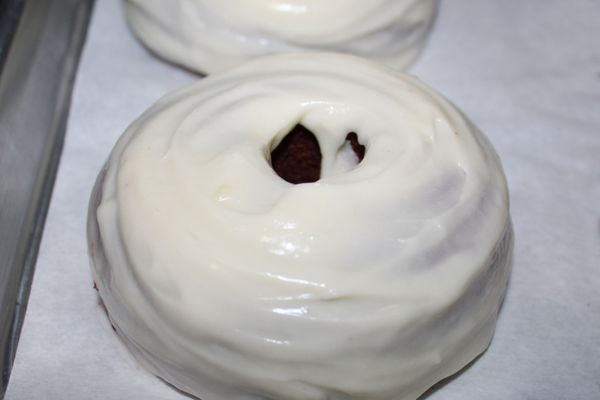sushi: (102, 50, 517, 392)
